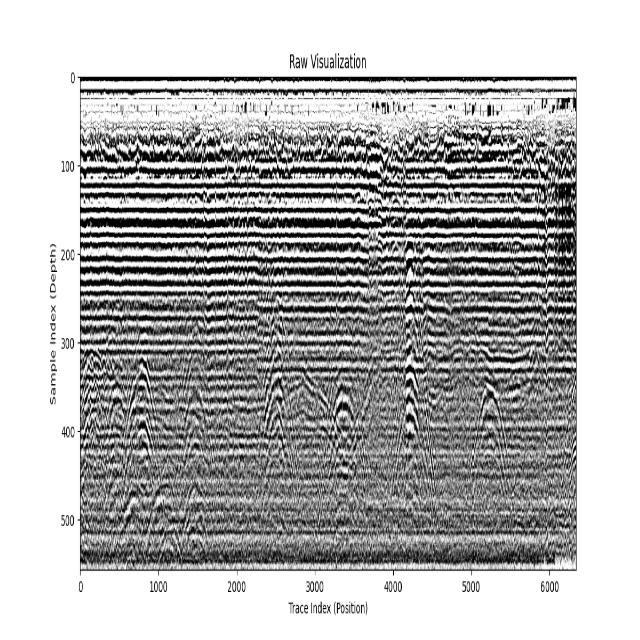anomaly: (121, 360, 188, 571), (170, 348, 221, 567), (400, 228, 435, 502), (261, 368, 345, 473), (263, 292, 296, 486), (326, 358, 362, 524), (81, 350, 108, 564), (130, 466, 182, 574), (520, 320, 577, 399), (474, 374, 511, 495)
